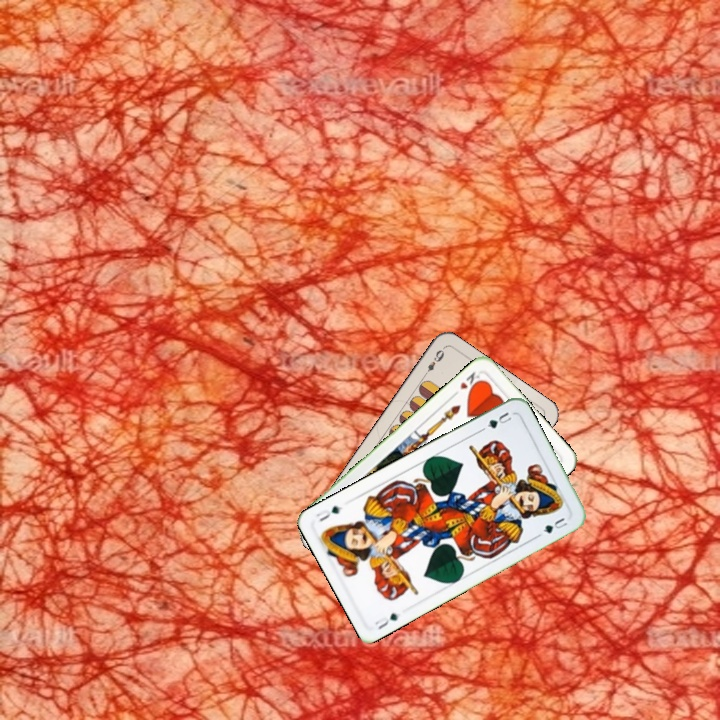E9: (419, 345, 447, 380)
GU: (478, 408, 514, 433), (371, 609, 403, 632)
HK: (448, 367, 486, 399)
